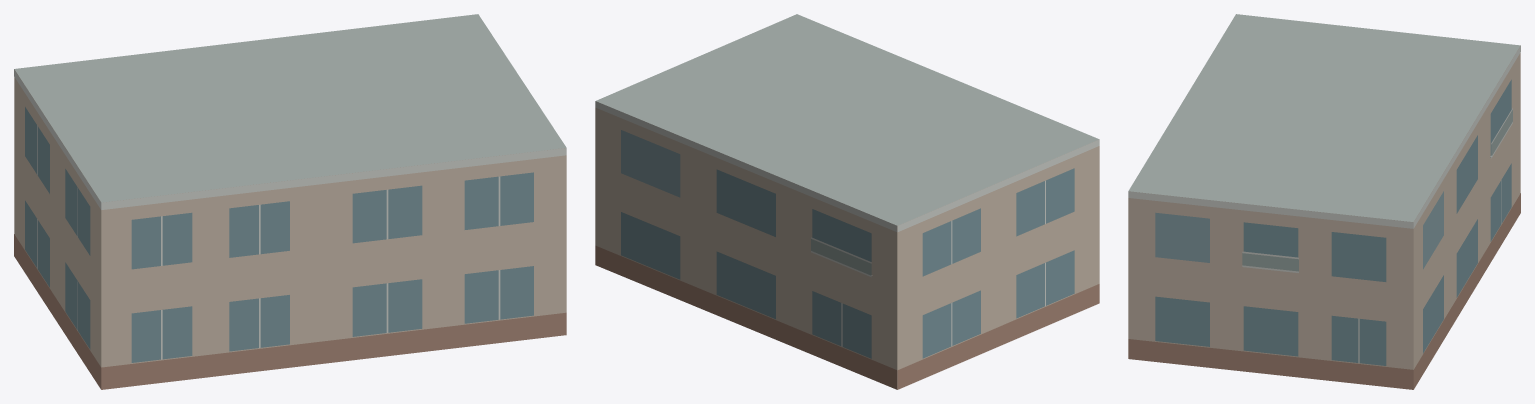
File: survey-upis-32702921.glb
3 views of the same model, side by side, from view 1: azimuth 30°, elevation 25°; view 2: azimuth 150°, elevation 25°; view 3: azimuth 270°, elevation 25° (orthographic). The views are drawn at different scales.
Parts seen in each view (by area): view 1: survey-upis-32702921.tmp; view 2: survey-upis-32702921.tmp; view 3: survey-upis-32702921.tmp.
Part boxes in pixels (left/top/right/bottom): survey-upis-32702921.tmp: left=14, top=14, right=566, bottom=389; survey-upis-32702921.tmp: left=595, top=14, right=1099, bottom=389; survey-upis-32702921.tmp: left=1128, top=14, right=1520, bottom=389.
Size of the model in its own units: 16.24 by 6.1 by 12.94.
